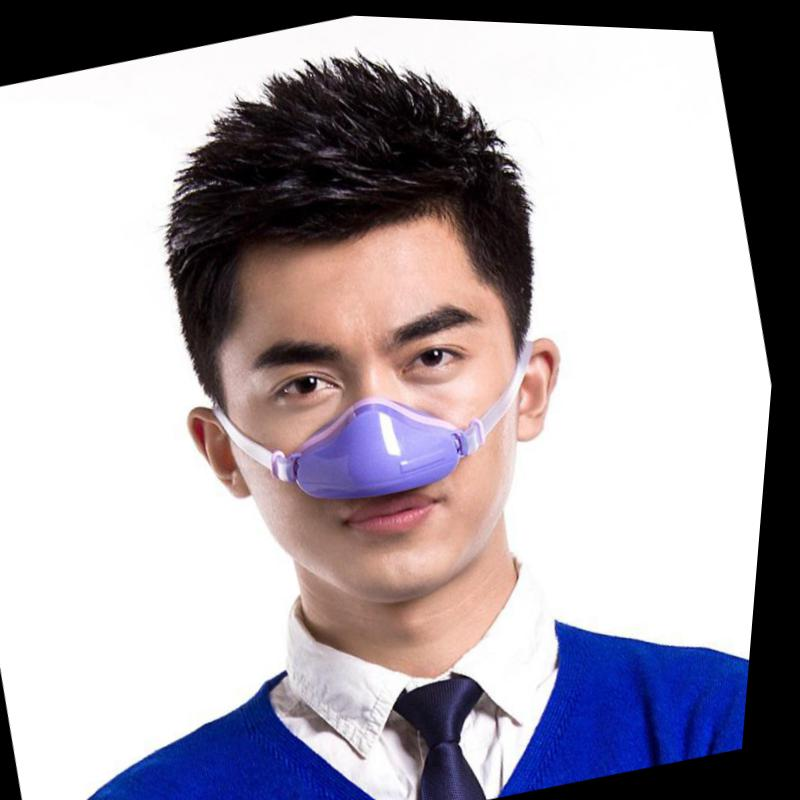WRONG: (205, 245, 577, 637)
